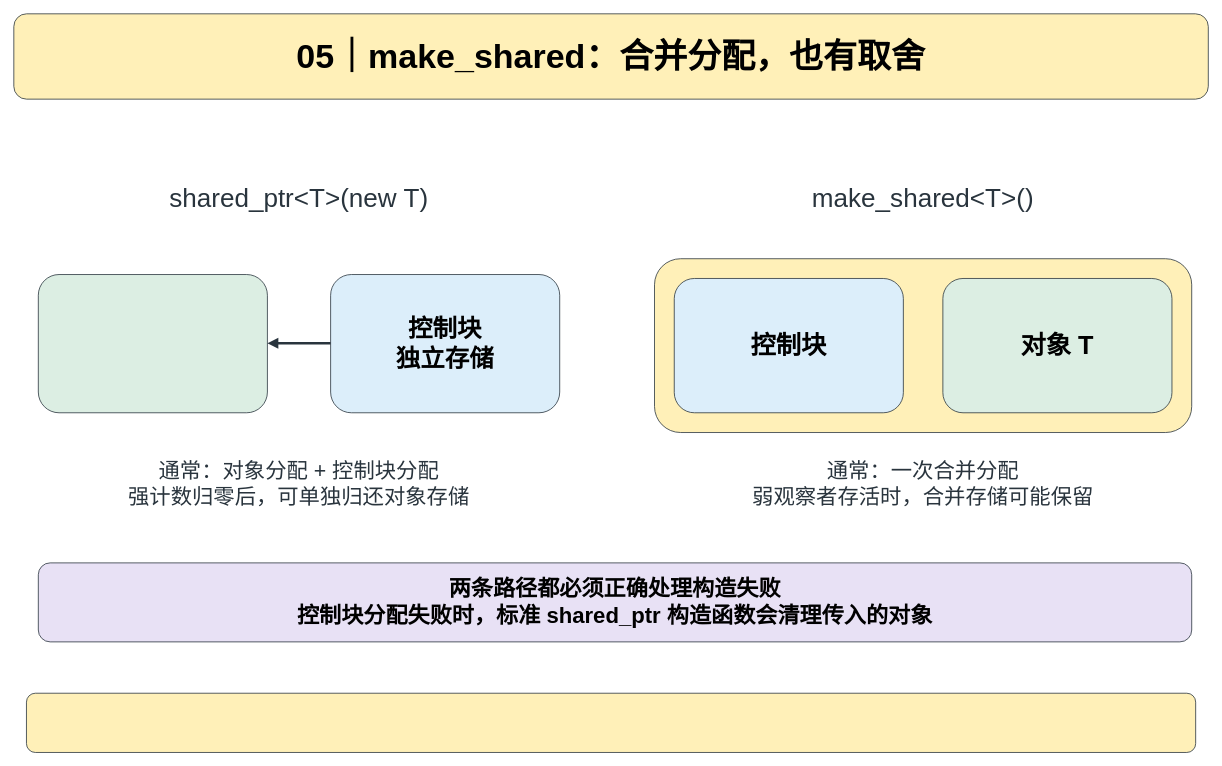
This 1222x766 diagram has some shape labels left out. Here are the shapes that lost their labels. From the top down, the centre of each, then its label:
point (152, 343): 对象 T 独立存储
point (611, 722): 默认优先 make_shared；自定义删除器、类专用分配策略等需求需要单独考虑。
